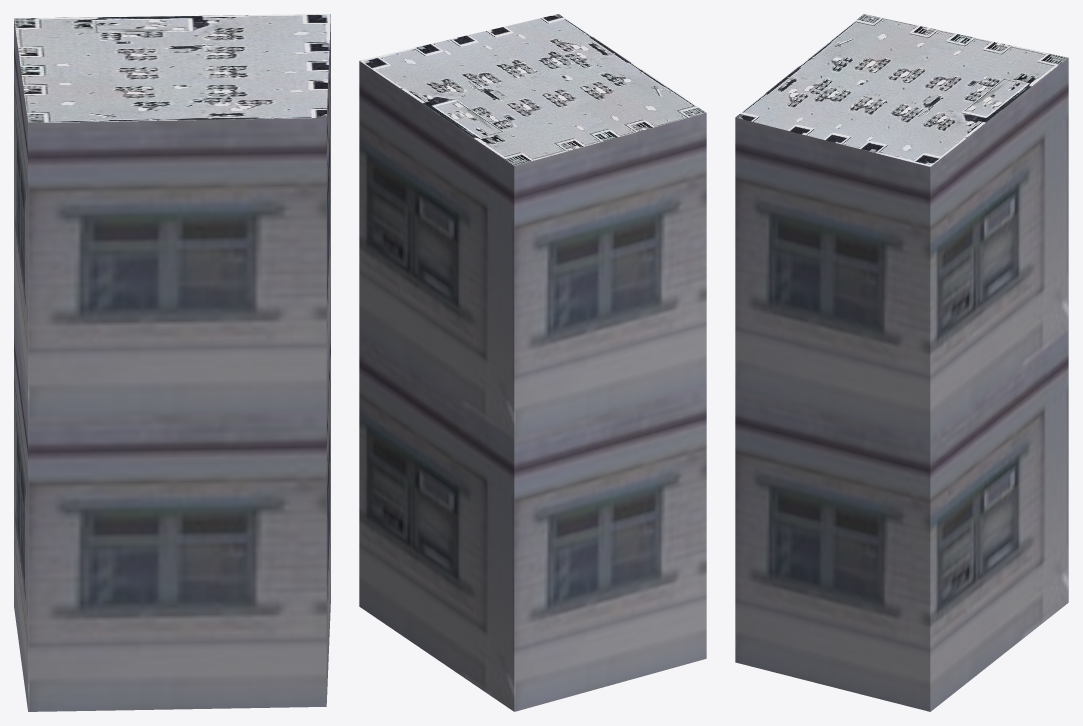
File: ResTex__3164.fbx
3 renders of one model, left to right at view 1: azimuth 30°, elevation 25°; view 2: azimuth 150°, elevation 25°; view 3: azimuth 270°, elevation 25°, orthographic. The views are drawn at different scales.
Visible parts, largest first — view 1: CityEngineMaterial_1_m, CityEngineMaterial_m; view 2: CityEngineMaterial_1_m, CityEngineMaterial_m; view 3: CityEngineMaterial_1_m, CityEngineMaterial_m.
Boxes of the visible parts, bbox=[...] form: CityEngineMaterial_1_m: bbox=[14, 15, 330, 711]; CityEngineMaterial_m: bbox=[14, 14, 330, 122]; CityEngineMaterial_1_m: bbox=[359, 61, 706, 711]; CityEngineMaterial_m: bbox=[359, 14, 706, 165]; CityEngineMaterial_1_m: bbox=[735, 58, 1068, 711]; CityEngineMaterial_m: bbox=[735, 14, 1067, 166].
Bounding box in the file's own units: 3.61 × 6 × 3.33.
Materials: 2 (2 with a texture image).
